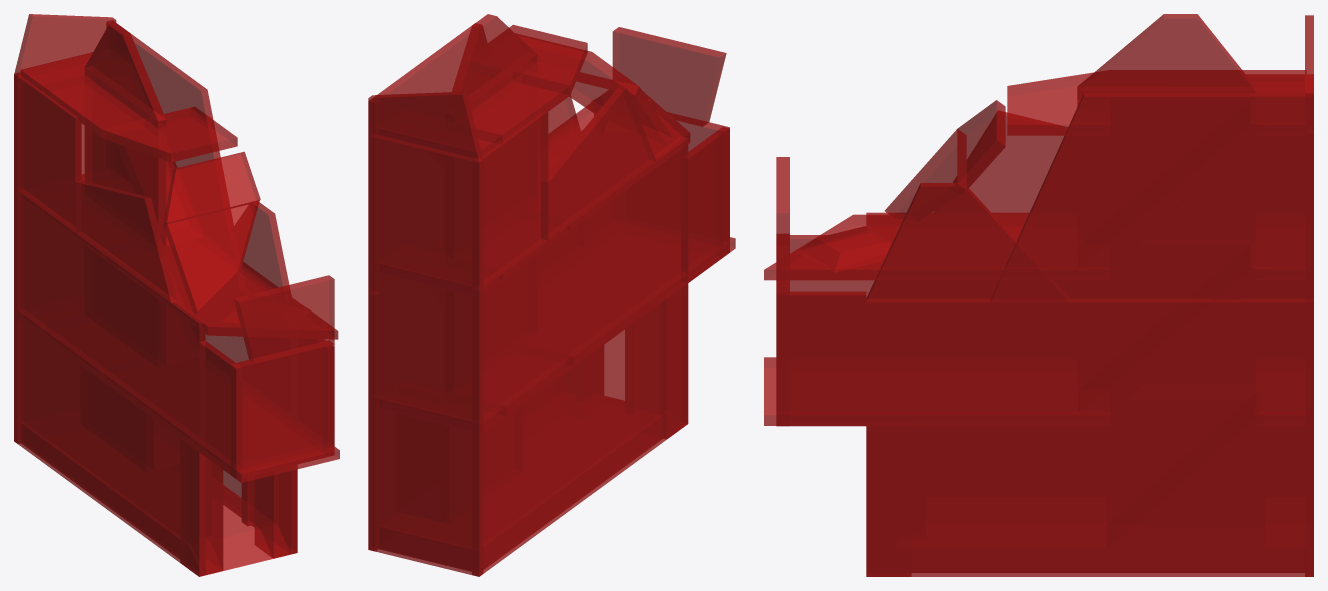
File: SM_Bld_Shop_02_Destroyed_Collision.fbx
3 views of the same model, side by side, from view 1: azimuth 30°, elevation 25°; view 2: azimuth 150°, elevation 25°; view 3: azimuth 270°, elevation 25° (orthographic). The views are drawn at different scales.
Visible parts, largest first — view 1: SM_Bld_Shop_02_Destroyed_Collision; view 2: SM_Bld_Shop_02_Destroyed_Collision; view 3: SM_Bld_Shop_02_Destroyed_Collision.
Boxes of the visible parts, x1=… form: SM_Bld_Shop_02_Destroyed_Collision: x1=14, y1=14, x2=339, y2=576; SM_Bld_Shop_02_Destroyed_Collision: x1=368, y1=14, x2=735, y2=576; SM_Bld_Shop_02_Destroyed_Collision: x1=764, y1=14, x2=1313, y2=576.
Size of the model in its own units: 310 by 1314 by 1230.
